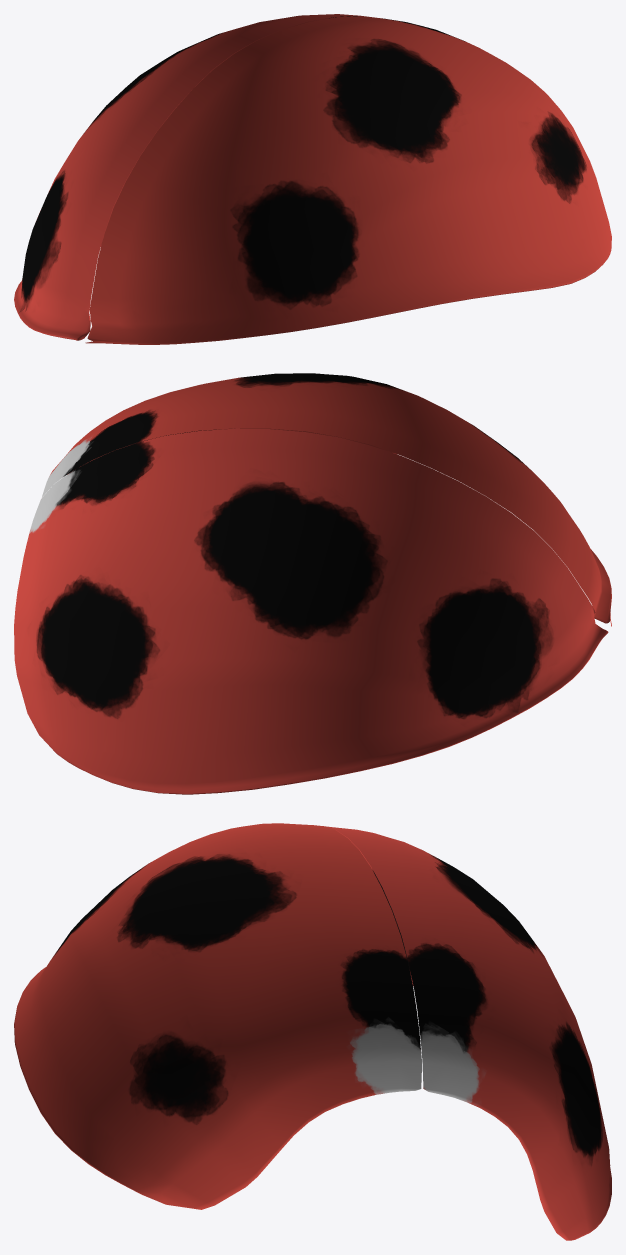
File: ladybug_shell.obj
3 renders of one model, top to bottom at view 1: azimuth 30°, elevation 25°; view 2: azimuth 150°, elevation 25°; view 3: azimuth 270°, elevation 25°, orthographic. The views are drawn at different scales.
Visible parts, largest first — view 1: dynamic; view 2: dynamic; view 3: dynamic.
Part boxes in pixels (box(x1,y1,x2,y2)): dynamic: box(14, 14, 611, 344); dynamic: box(14, 373, 611, 794); dynamic: box(14, 823, 611, 1240).
Size of the model in its own units: 0.00366 by 0.00199 by 0.00333.
Materials: 2 (2 with a texture image).
